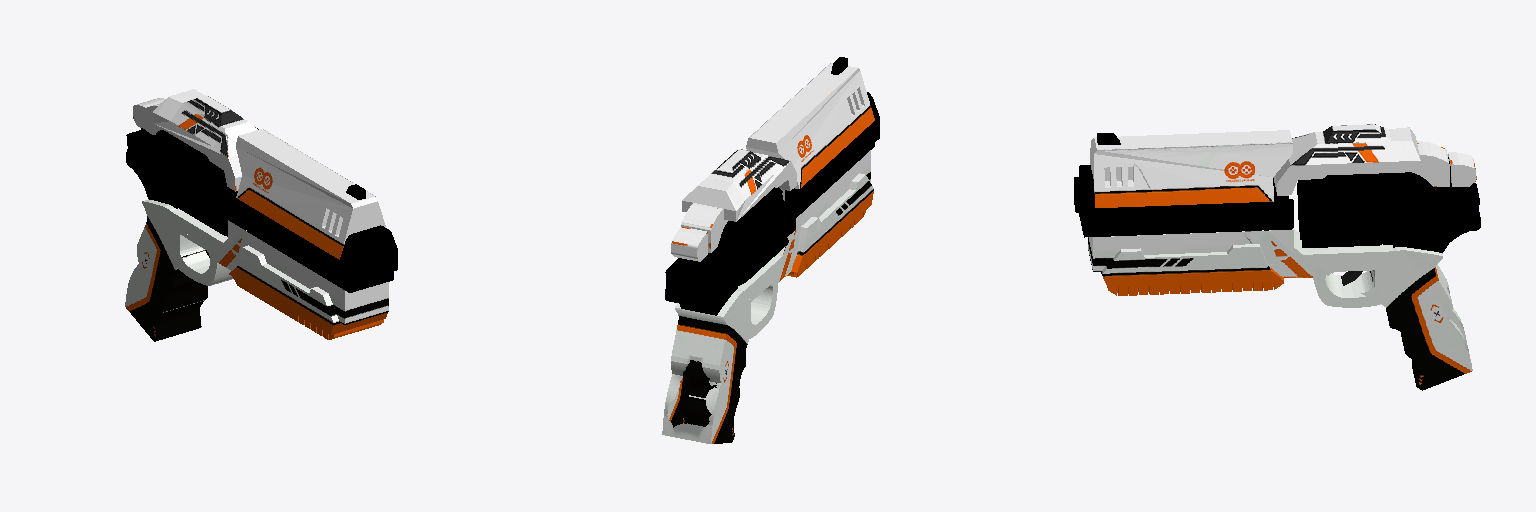
The picture shows the model from 3 angles: view 1: azimuth 30°, elevation 25°; view 2: azimuth 150°, elevation 25°; view 3: azimuth 270°, elevation 25°; orthographic projection.
Visible parts, largest first — view 1: Brazos polySurface124 polySurface168; view 2: Brazos polySurface124 polySurface168; view 3: Brazos polySurface124 polySurface168.
Boxes of the visible parts, x1,y1,x2,y2 form: Brazos polySurface124 polySurface168: [125, 89, 397, 341]; Brazos polySurface124 polySurface168: [662, 57, 879, 443]; Brazos polySurface124 polySurface168: [1074, 124, 1480, 390].
Bounding box in the file's own units: 1.06 × 2.93 × 4.26.
Materials: 3 (2 with a texture image).